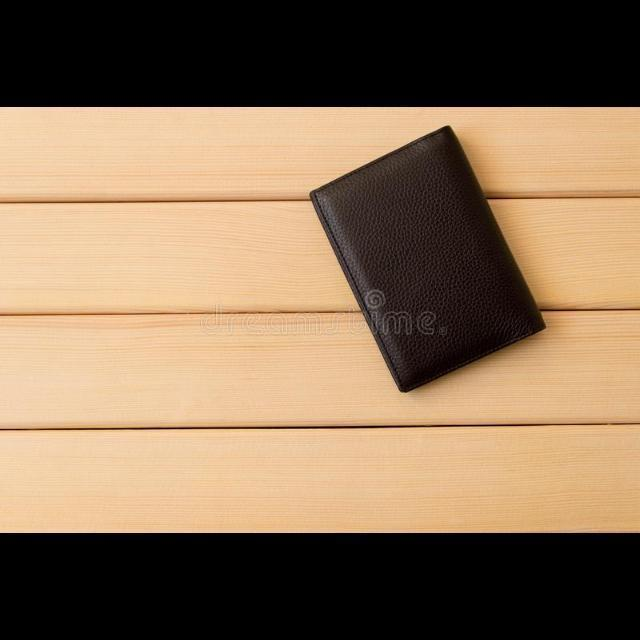wallet: (272, 123, 584, 401)
